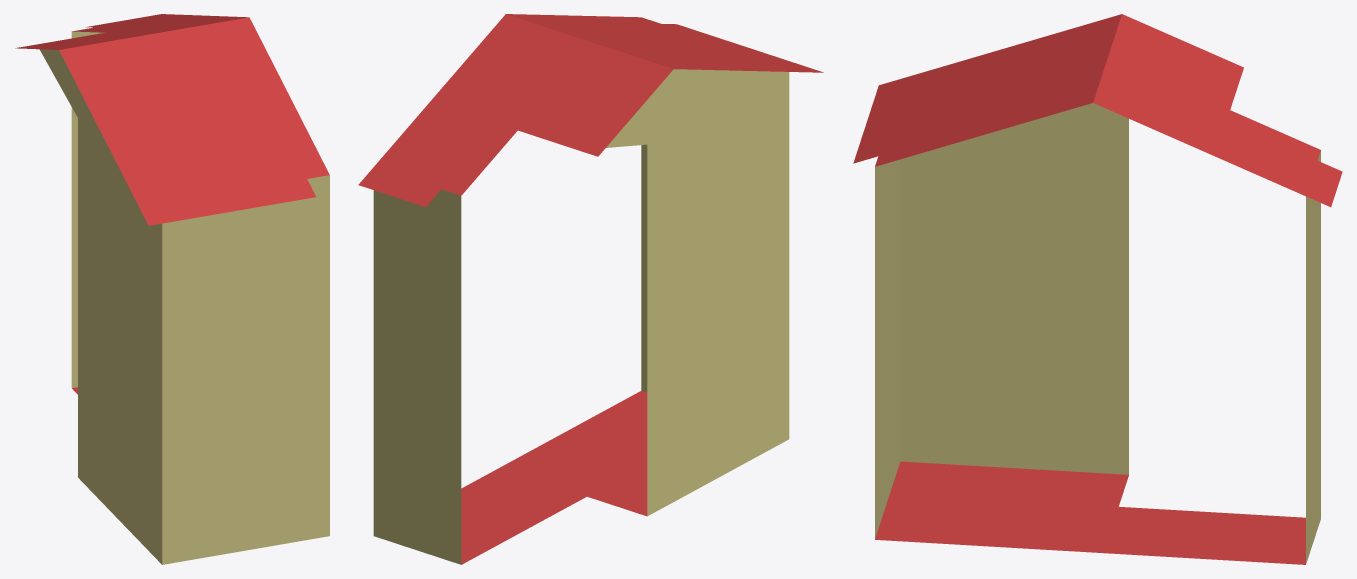
The picture shows the model from 3 angles, left to right: view 1: azimuth 30°, elevation 25°; view 2: azimuth 150°, elevation 25°; view 3: azimuth 270°, elevation 25°; orthographic projection. The views are drawn at different scales.
Size of the model in its own units: 5.47 by 9.66 by 9.8.
